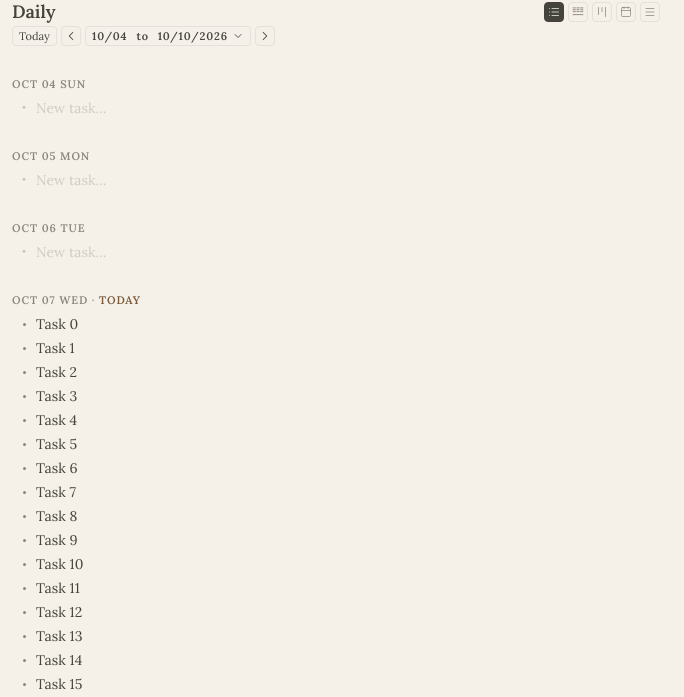
Test: Daily asks for one range per view › keeps reorganize preview dates visible beyond the selected week and cancels without saving
The width and height of the screenshot is (684, 697).
Click the button named "More options" at (650, 12), box [640,2,660,22]
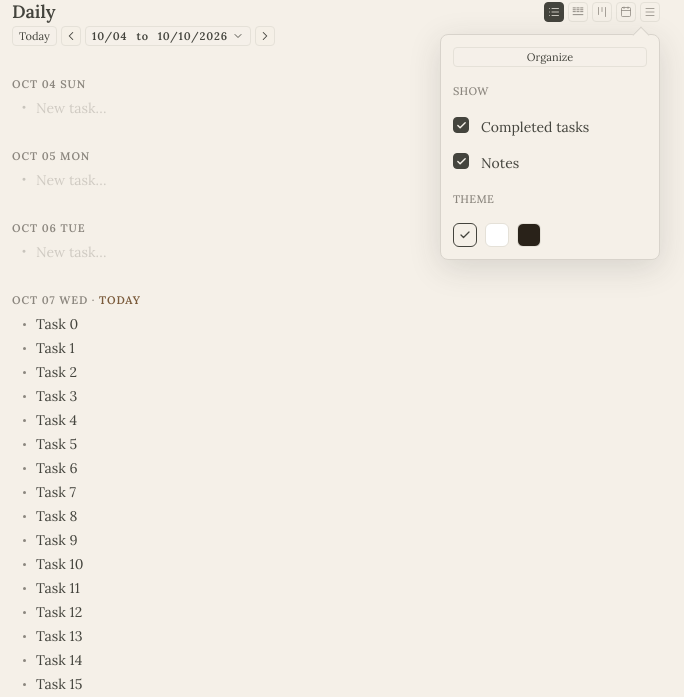
Click the button "Organize" at (550, 57), box [453,47,647,67]
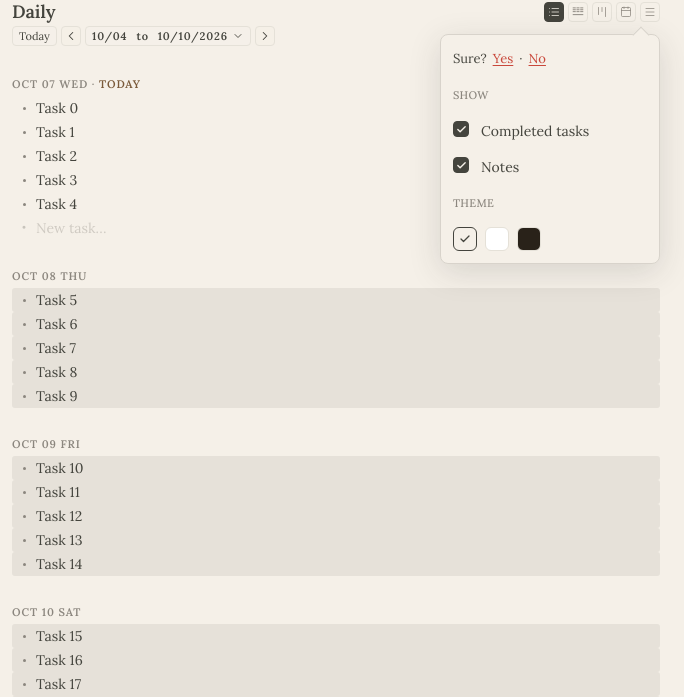
Click the button "No" at (537, 59), box [528,47,546,71]
(page scrolled)
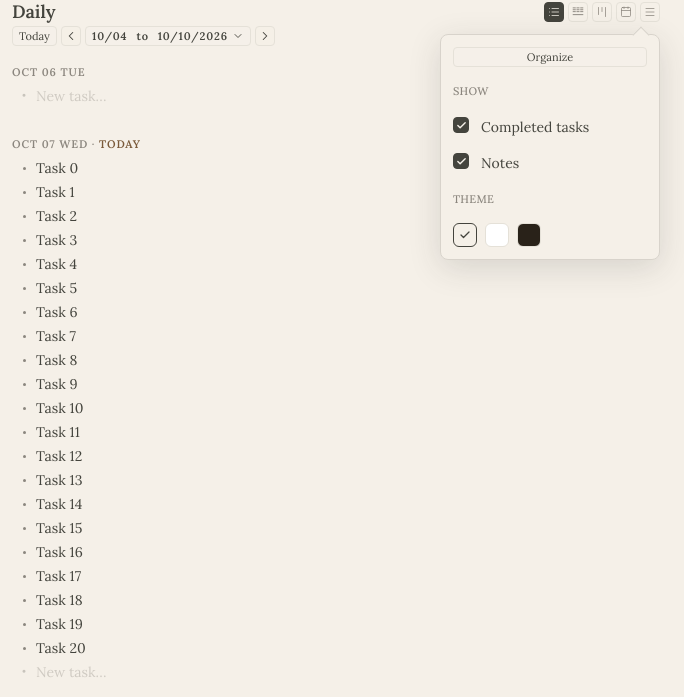
Check: the element that starts with "OCT 07 WED" shows "Task 20", box [36,639,86,657]
